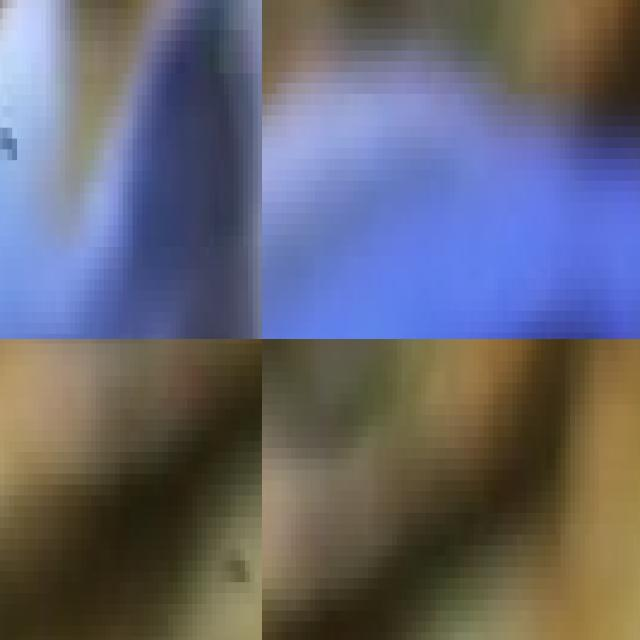fish: (262, 0, 640, 339), (0, 0, 262, 339)
